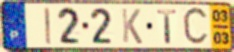2: (56, 6, 84, 47), (90, 7, 117, 46)
C: (181, 5, 210, 49)
I: (43, 6, 54, 46)
K: (120, 7, 144, 46)
T: (155, 8, 179, 45)
